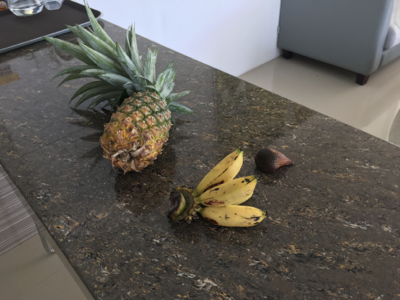banana: (167, 149, 269, 230)
pineapple: (44, 7, 187, 175)
snake fruit: (254, 148, 295, 172)
